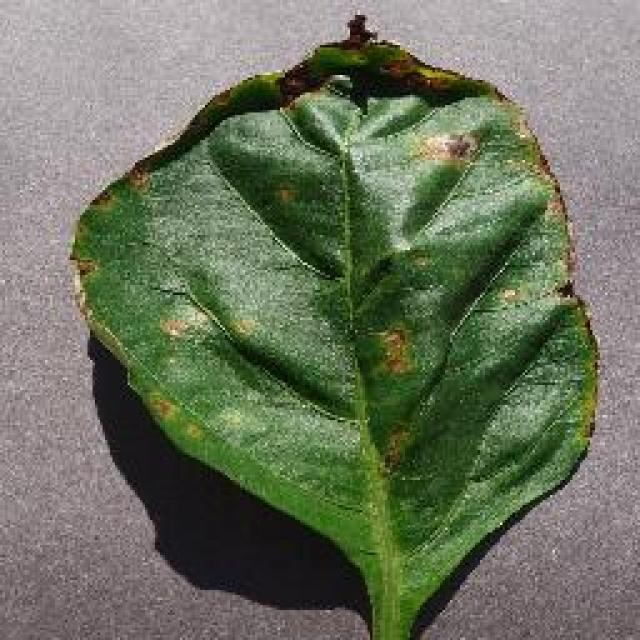Chilli_Bacterial_Spot: (65, 12, 603, 638), (140, 388, 208, 448), (412, 128, 478, 168), (373, 322, 415, 380), (373, 417, 415, 475), (340, 8, 378, 48), (155, 312, 193, 342), (225, 310, 260, 342), (122, 158, 150, 192), (270, 178, 300, 208), (85, 185, 115, 213)
